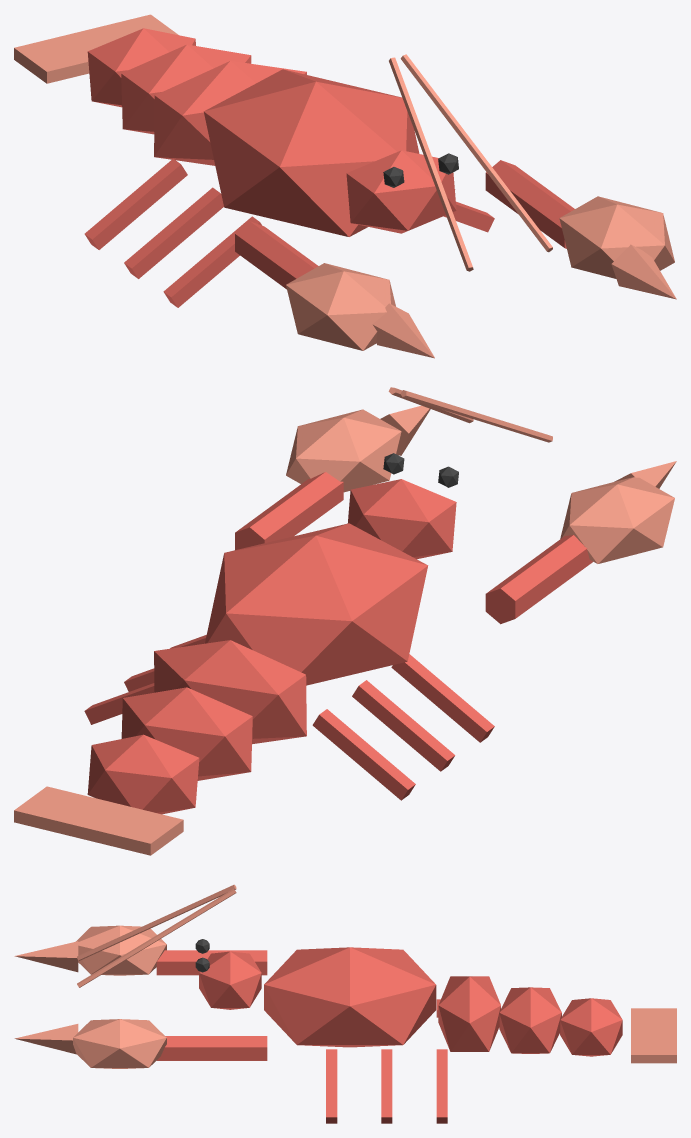
File: Lobster.fbx
3 renders of one model, top to bottom at view 1: azimuth 30°, elevation 25°; view 2: azimuth 150°, elevation 25°; view 3: azimuth 270°, elevation 25°, orthographic. The views are drawn at different scales.
Visible parts, largest first — view 1: Body, Limb_ClawL, Limb_ClawR, Limb_Head; view 2: Body, Limb_ClawL, Limb_ClawR, Limb_Head; view 3: Body, Limb_ClawR, Limb_ClawL, Limb_Head.
Boxes of the visible parts, x1=… form: Body: x1=14, y1=14, x2=494, y2=307; Limb_ClawL: x1=235, y1=221, x2=434, y2=358; Limb_ClawR: x1=485, y1=160, x2=676, y2=299; Limb_Head: x1=346, y1=54, x2=552, y2=271; Body: x1=14, y1=523, x2=494, y2=855; Limb_ClawL: x1=485, y1=461, x2=676, y2=624; Limb_ClawR: x1=235, y1=405, x2=430, y2=550; Limb_Head: x1=347, y1=387, x2=552, y2=559; Body: x1=264, y1=947, x2=676, y2=1123; Limb_ClawR: x1=14, y1=1019, x2=267, y2=1068; Limb_ClawL: x1=14, y1=925, x2=267, y2=975; Limb_Head: x1=77, y1=884, x2=261, y2=1009.
Size of the model in its own units: 1.6 by 1.1 by 3.6.
